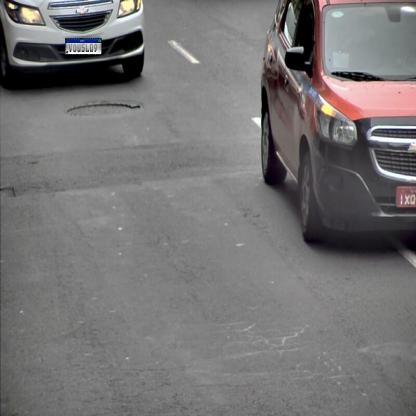PlacaM: (65, 38, 102, 55)
